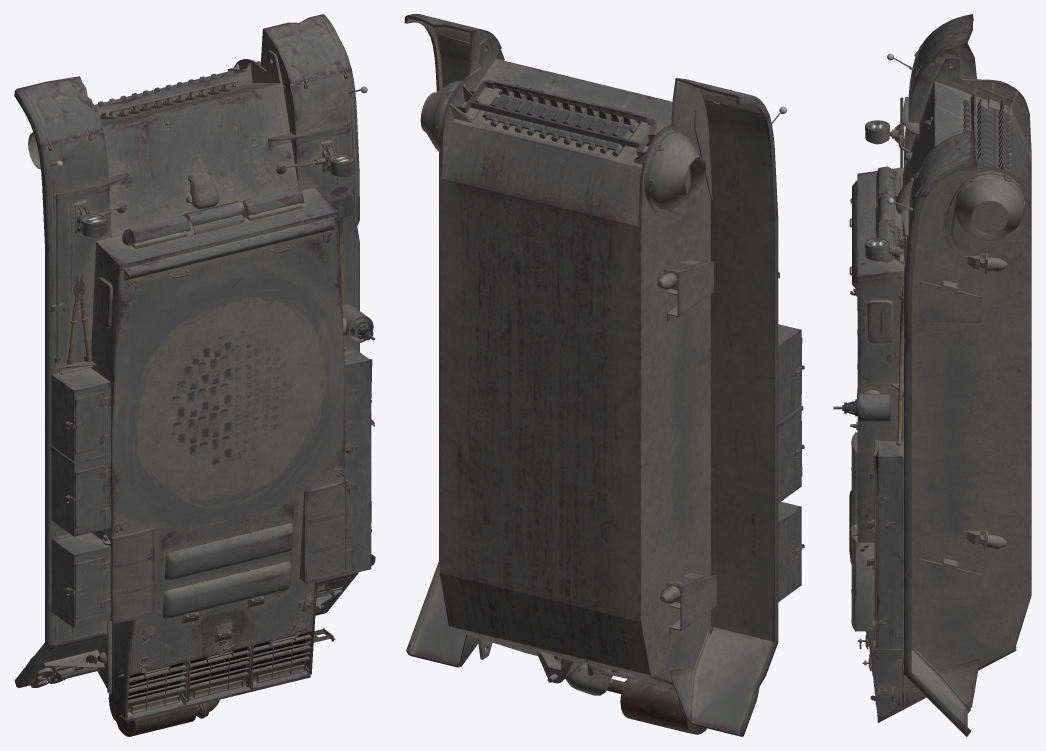
Rendered from Hull.glb.
3 views of the same model, side by side, from view 1: azimuth 30°, elevation 25°; view 2: azimuth 150°, elevation 25°; view 3: azimuth 270°, elevation 25° (orthographic). The views are drawn at different scales.
Visible parts, largest first — view 1: set_0_group_0; view 2: set_0_group_0; view 3: set_0_group_0.
Boxes of the visible parts, x1,y1,x2,y2 form: set_0_group_0: (14, 14, 375, 736); set_0_group_0: (404, 14, 804, 736); set_0_group_0: (833, 14, 1031, 736).
Bounding box in the file's own units: 2.53 × 4.84 × 1.41.
Materials: 1 (1 with a texture image).
